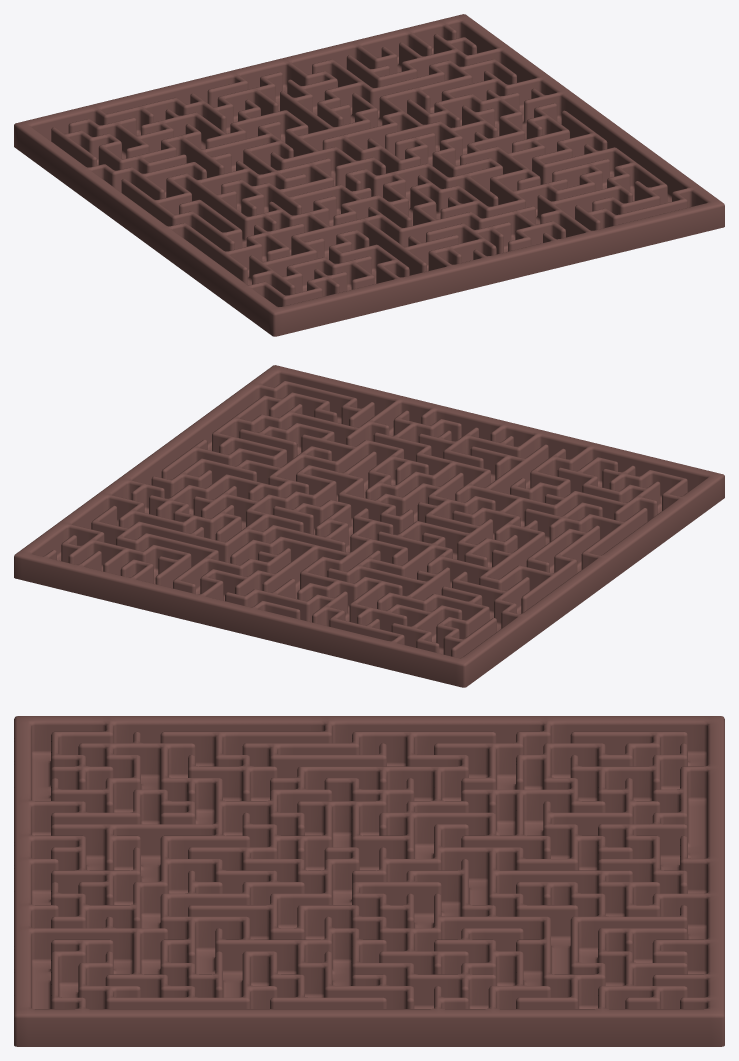
Rendered from labyr.fbx.
3 views of the same model, one above another, from view 1: azimuth 30°, elevation 25°; view 2: azimuth 150°, elevation 25°; view 3: azimuth 270°, elevation 25° (orthographic). The views are drawn at different scales.
Visible parts, largest first — view 1: Plane; view 2: Plane; view 3: Plane.
Boxes of the visible parts, bbox=[...] form: Plane: bbox=[14, 14, 724, 336]; Plane: bbox=[14, 365, 724, 687]; Plane: bbox=[14, 716, 724, 1046].
Size of the model in its own units: 2034 by 100 by 2034.
